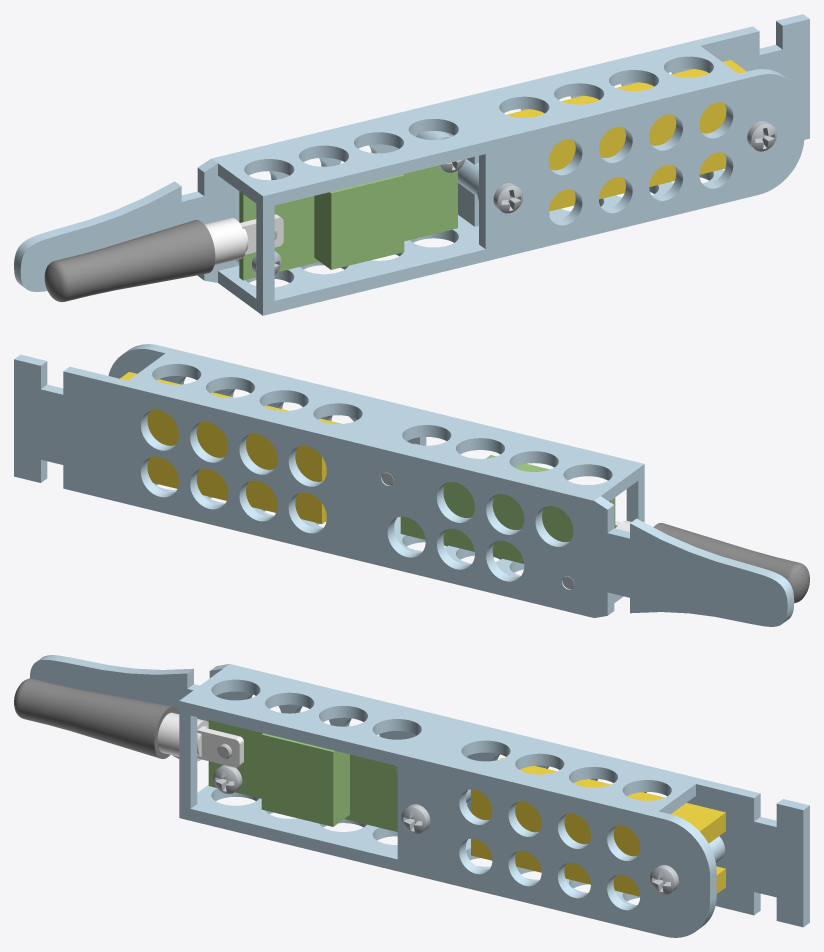
File: Eggtimer Mini Shock Cord Sled Assembly.gltf
3 views of the same model, one above another, from view 1: azimuth 30°, elevation 25°; view 2: azimuth 150°, elevation 25°; view 3: azimuth 330°, elevation 25° (orthographic). The views are drawn at different scales.
Visible parts, largest first — view 1: Shock Cord Sled Top Cover, Shock Cord Sled, Mini PCB, ANT-916-PW-LP (×2), Battery, PH Pan head screw M3x0.50 x 10 (×2); view 2: Shock Cord Sled, Battery, Shock Cord Sled Top Cover, Mini PCB, ANT-916-PW-LP; view 3: Shock Cord Sled Top Cover, Shock Cord Sled, Mini PCB, ANT-916-PW-LP (×2), Battery, PH Pan head screw M3x0.50 x 10 (×3).
Boxes of the visible parts, bbox=[...] form: Shock Cord Sled Top Cover: bbox=[256, 69, 804, 315]; Shock Cord Sled: bbox=[14, 14, 809, 310]; Mini PCB: bbox=[239, 166, 457, 280]; ANT-916-PW-LP (×2): bbox=[44, 214, 283, 301]; Battery: bbox=[507, 60, 746, 211]; PH Pan head screw M3x0.50 x 10 (×2): bbox=[493, 121, 776, 213]; Shock Cord Sled: bbox=[14, 353, 794, 626]; Battery: bbox=[120, 372, 341, 523]; Shock Cord Sled Top Cover: bbox=[108, 344, 644, 522]; Mini PCB: bbox=[400, 455, 615, 563]; ANT-916-PW-LP: bbox=[653, 523, 809, 603]; Shock Cord Sled Top Cover: bbox=[179, 696, 716, 937]; Shock Cord Sled: bbox=[29, 655, 809, 927]; Mini PCB: bbox=[208, 720, 397, 831]; ANT-916-PW-LP (×2): bbox=[14, 678, 243, 767]; Battery: bbox=[471, 758, 725, 896]; PH Pan head screw M3x0.50 x 10 (×3): bbox=[213, 765, 678, 894].
Bounding box in the file's own units: 0.1727 × 0.025 × 0.0219.
